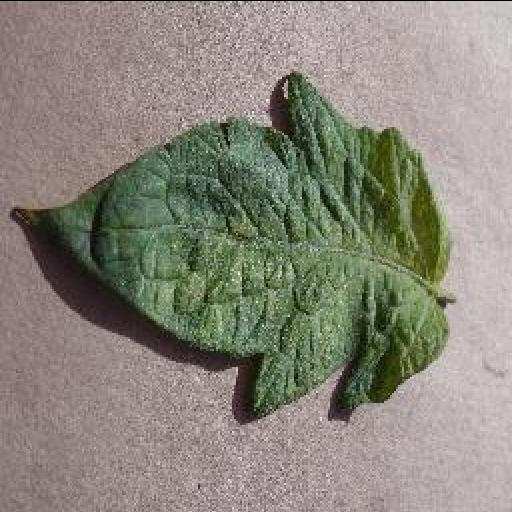disease_tomato: (34, 70, 452, 418)
